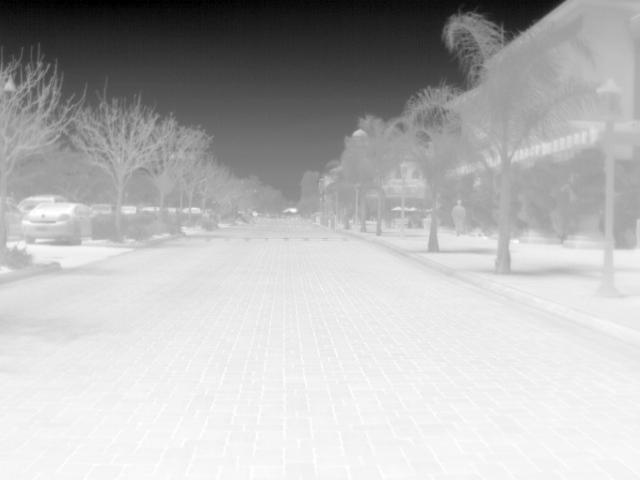car: (22, 200, 97, 246), (3, 196, 24, 240), (20, 194, 66, 212)
person: (450, 199, 467, 238)
